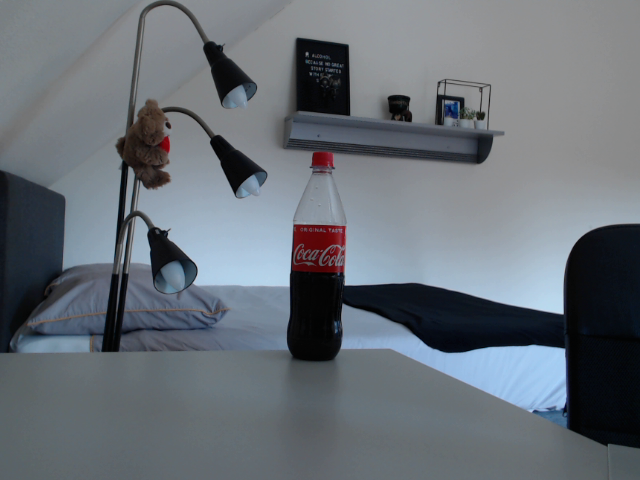bottle: (285, 153, 347, 362)
